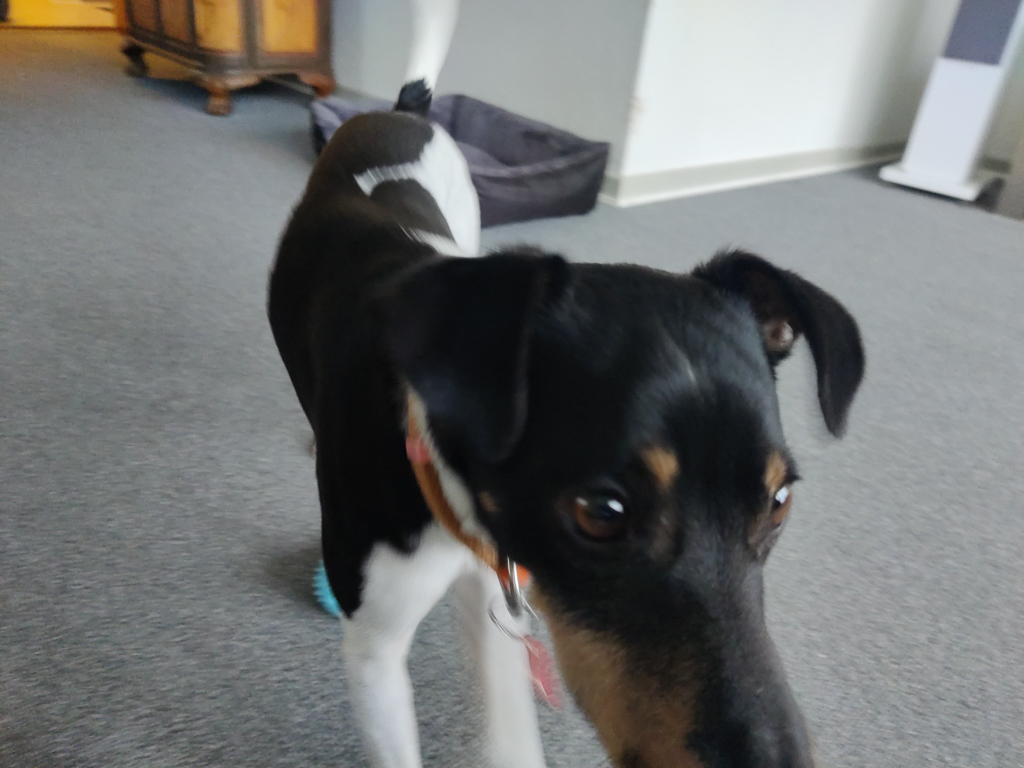Dog: (246, 0, 885, 768)
